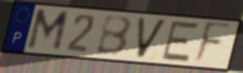2: (64, 13, 96, 55)
B: (94, 15, 134, 58)
E: (159, 20, 201, 64)
F: (191, 20, 233, 67)
M: (24, 8, 71, 54)
V: (136, 16, 170, 60)
